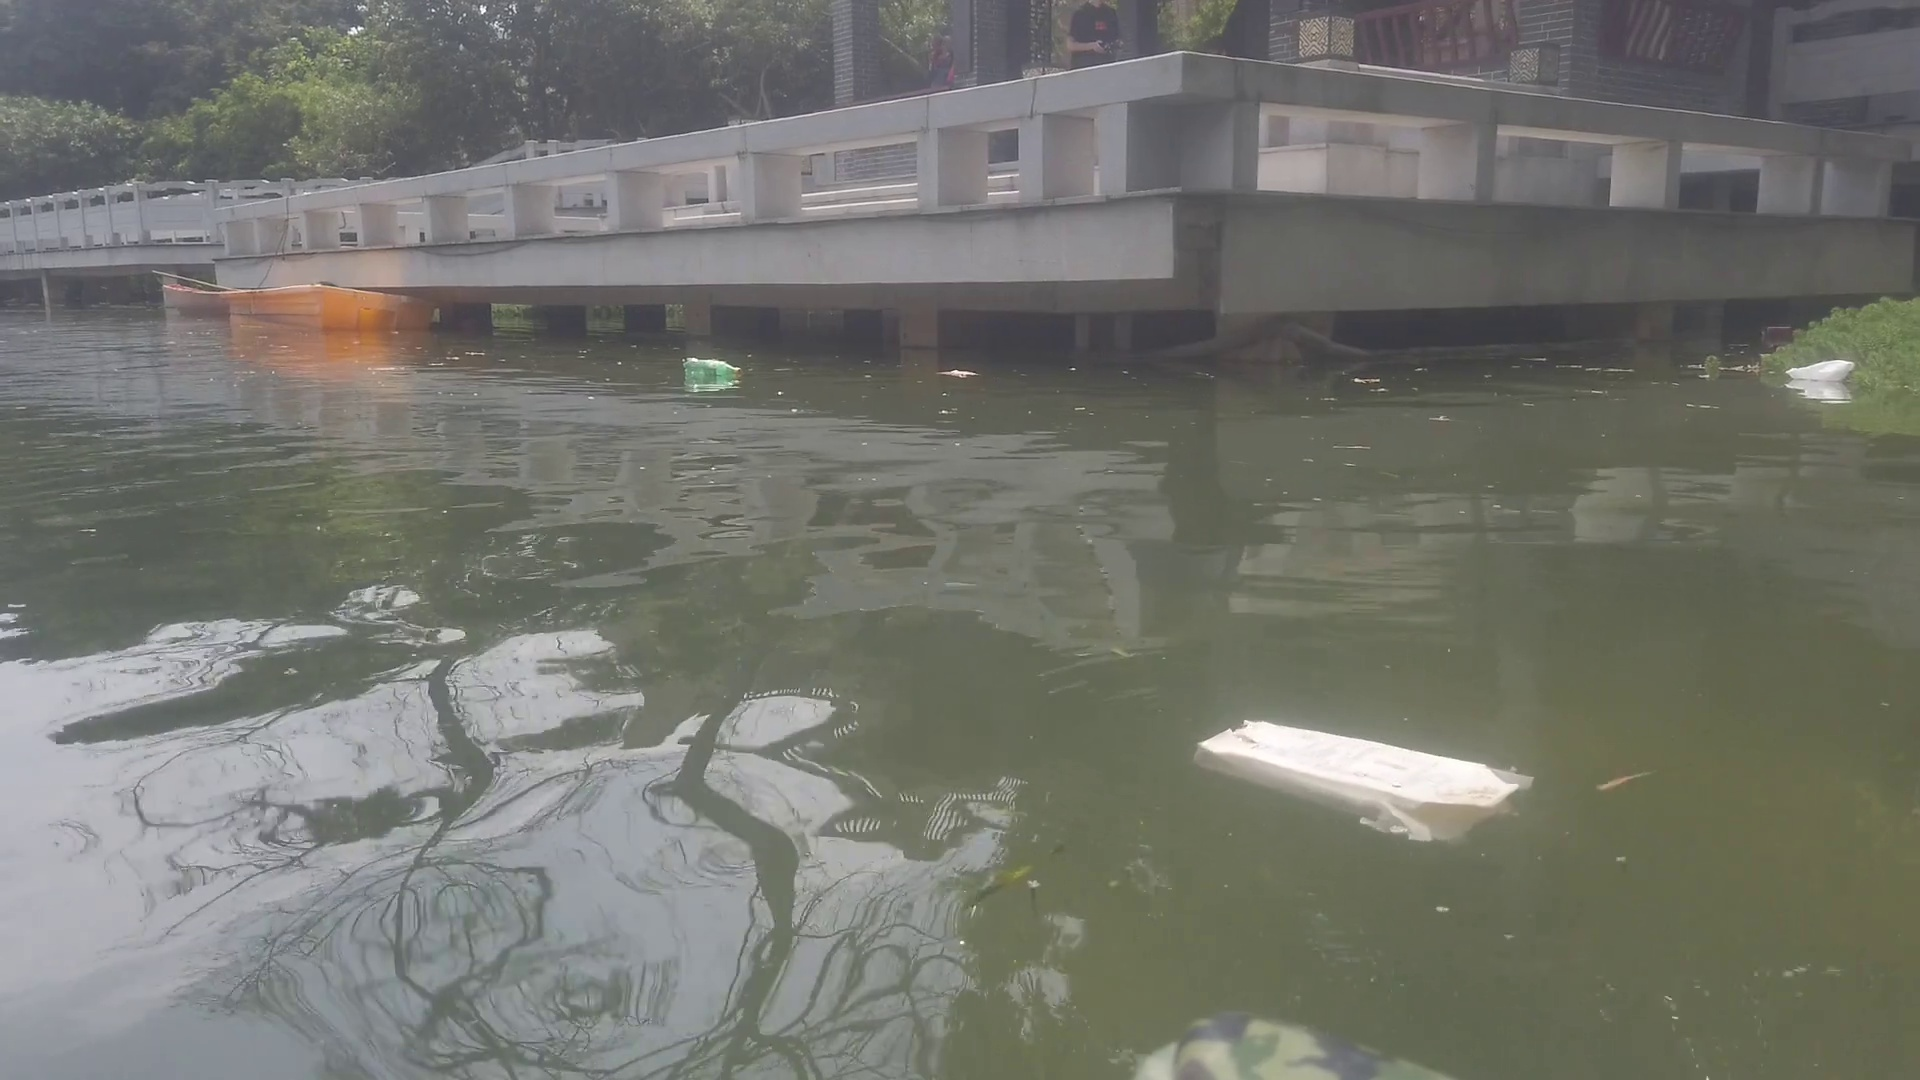bottle: (676, 357, 749, 376)
paper: (1189, 715, 1545, 844), (940, 367, 978, 382)
plastic: (1778, 355, 1855, 382)
